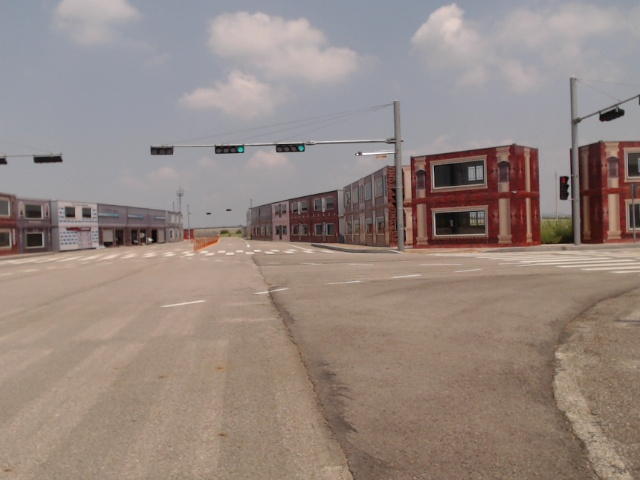straight_green_4: (276, 143, 306, 153), (214, 145, 245, 154)
